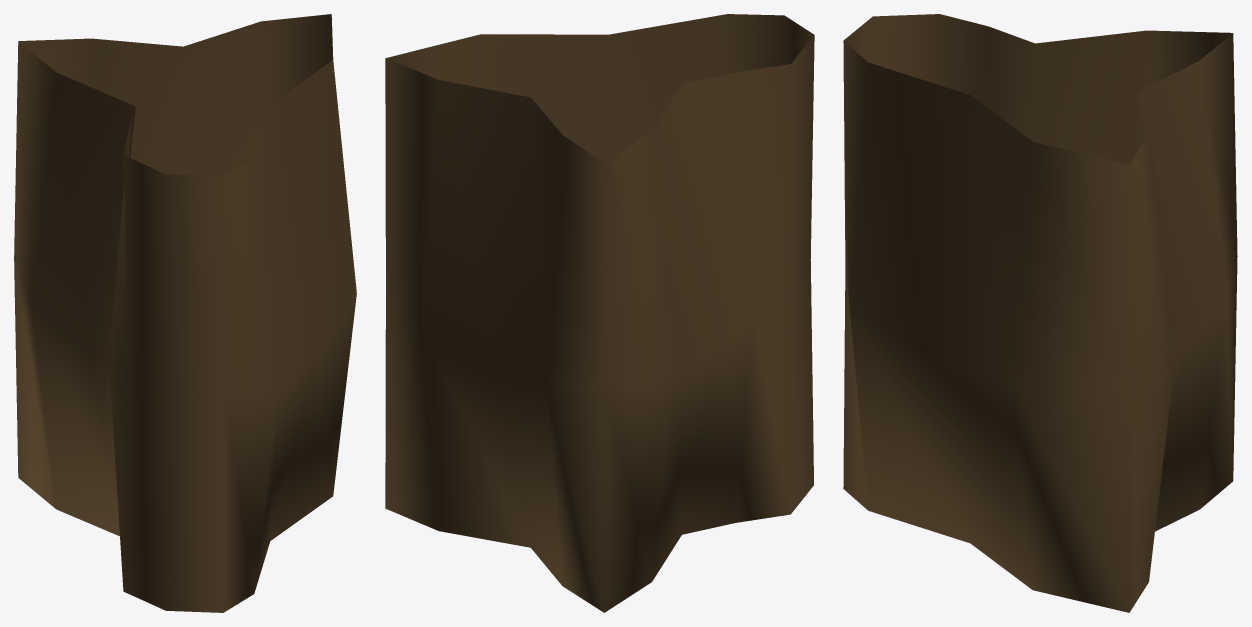
Rendered from SWORDLIGHT20_PS-AREA03_111.fbx.
3 views of the same model, side by side, from view 1: azimuth 30°, elevation 25°; view 2: azimuth 150°, elevation 25°; view 3: azimuth 270°, elevation 25° (orthographic). The views are drawn at different scales.
Parts seen in each view (by area): view 1: SWORDLIGHT20_PS-AREA03_111; view 2: SWORDLIGHT20_PS-AREA03_111; view 3: SWORDLIGHT20_PS-AREA03_111.
Boxes of the visible parts, left/top/right/bottom form: SWORDLIGHT20_PS-AREA03_111: left=14, top=14, right=356, bottom=612; SWORDLIGHT20_PS-AREA03_111: left=385, top=14, right=814, bottom=612; SWORDLIGHT20_PS-AREA03_111: left=843, top=14, right=1237, bottom=612.
Bounding box in the file's own units: 74324 × 103756 × 82157.
Materials: 1 (1 with a texture image).
